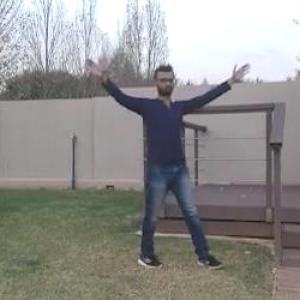takeoff: (44, 58, 226, 277)
